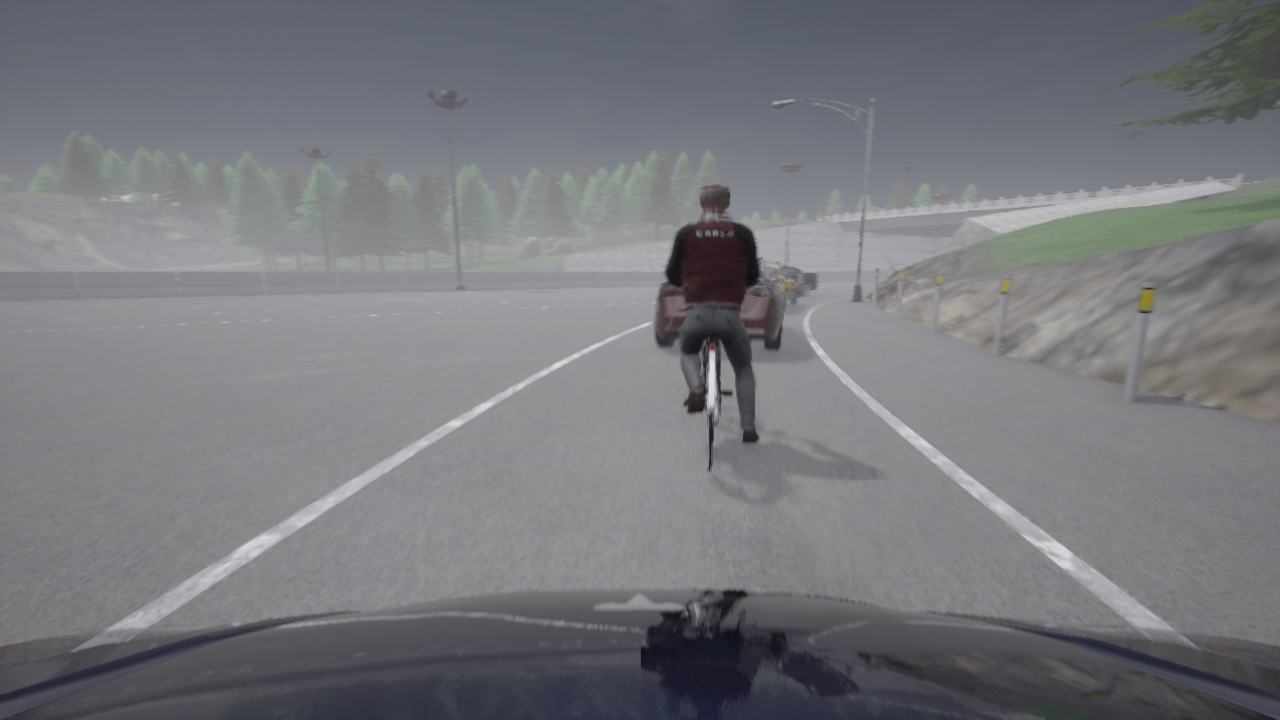cyclist: (0, 588, 1279, 719), (654, 255, 784, 350), (688, 338, 732, 471), (764, 260, 798, 310), (773, 262, 817, 296)
